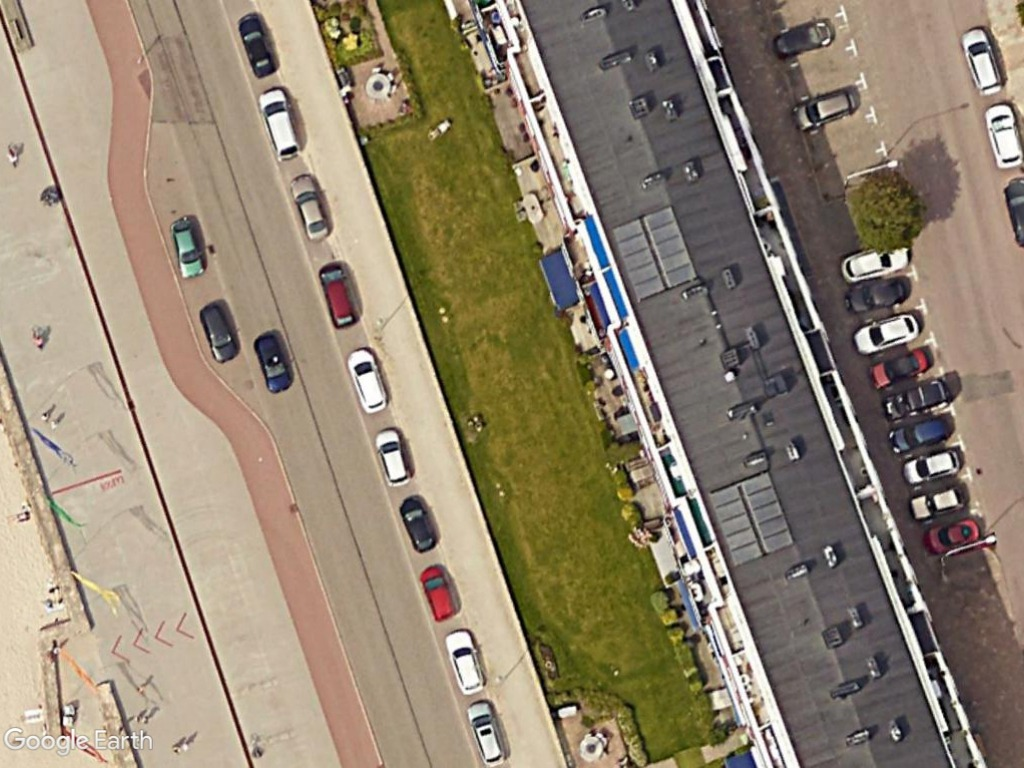car: (877, 374, 953, 426), (256, 87, 305, 163), (957, 24, 1007, 98), (789, 85, 860, 135), (288, 170, 335, 245), (851, 309, 922, 358), (460, 700, 511, 768), (344, 345, 391, 418), (883, 411, 955, 457), (769, 15, 839, 62), (442, 628, 488, 699), (898, 444, 966, 492), (316, 260, 362, 330), (865, 343, 930, 392), (252, 331, 298, 399), (980, 100, 1024, 171), (235, 10, 279, 81), (839, 274, 909, 318), (197, 300, 241, 367), (920, 512, 984, 558), (166, 214, 207, 284), (395, 491, 439, 555), (373, 425, 416, 490), (417, 562, 463, 622), (907, 481, 969, 522)
